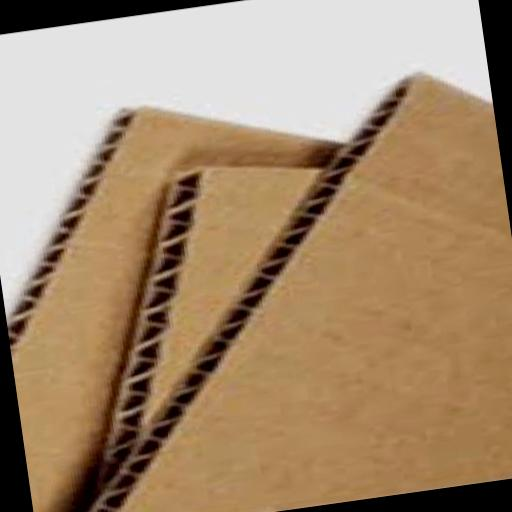cardboard: (11, 61, 512, 512), (0, 73, 399, 512), (48, 146, 368, 492)
